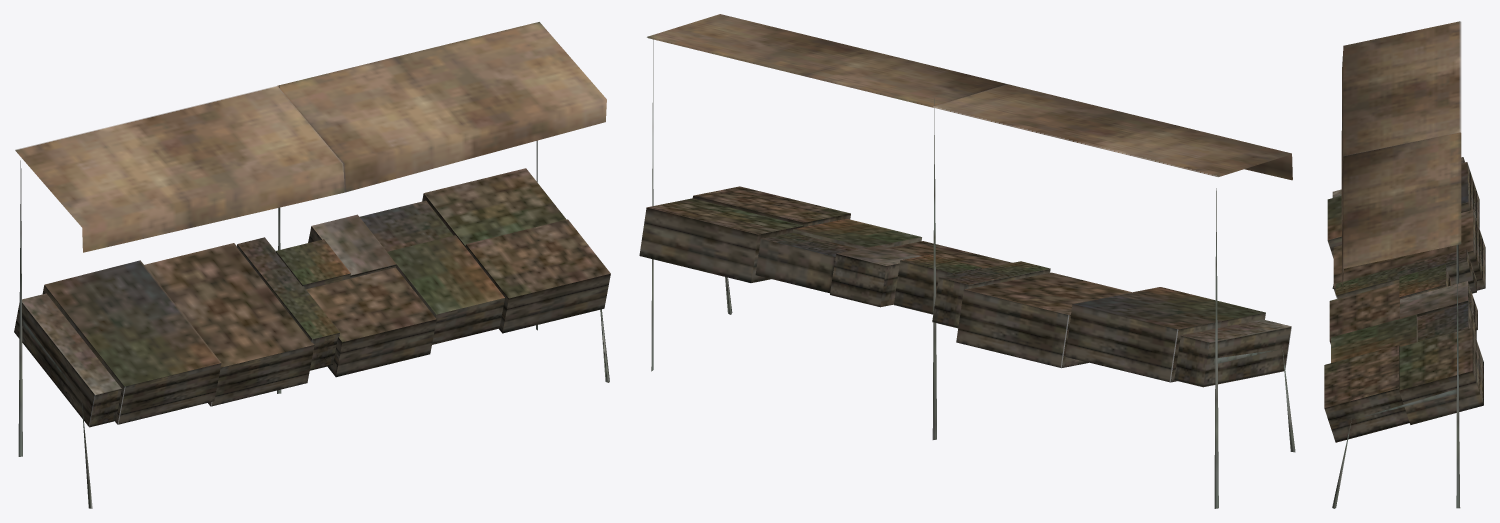
Rendered from frn_tato_fruit_stand_large_s01_l2.fbx.
3 views of the same model, side by side, from view 1: azimuth 30°, elevation 25°; view 2: azimuth 150°, elevation 25°; view 3: azimuth 270°, elevation 25° (orthographic). The views are drawn at different scales.
Visible parts, largest first — view 1: mesh_node; view 2: mesh_node; view 3: mesh_node.
Boxes of the visible parts, <box> form: mesh_node: <box>14,22,610,508</box>; mesh_node: <box>639,14,1295,508</box>; mesh_node: <box>1324,21,1485,508</box>.
Bounding box in the file's own units: 5.22 × 3.01 × 1.6.
